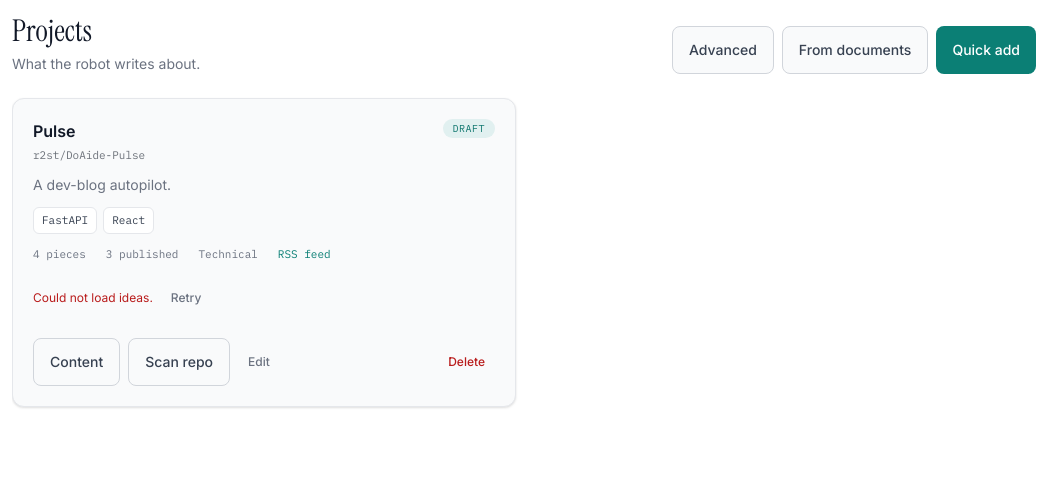
Test case: a project's ideas › says the ideas could not load, not 'No ideas yet', and retries
Expected: the text "Could not load ideas." is shown, [33,290,153,306]
Click the button "Retry": click(186, 298) [161,274,211,322]
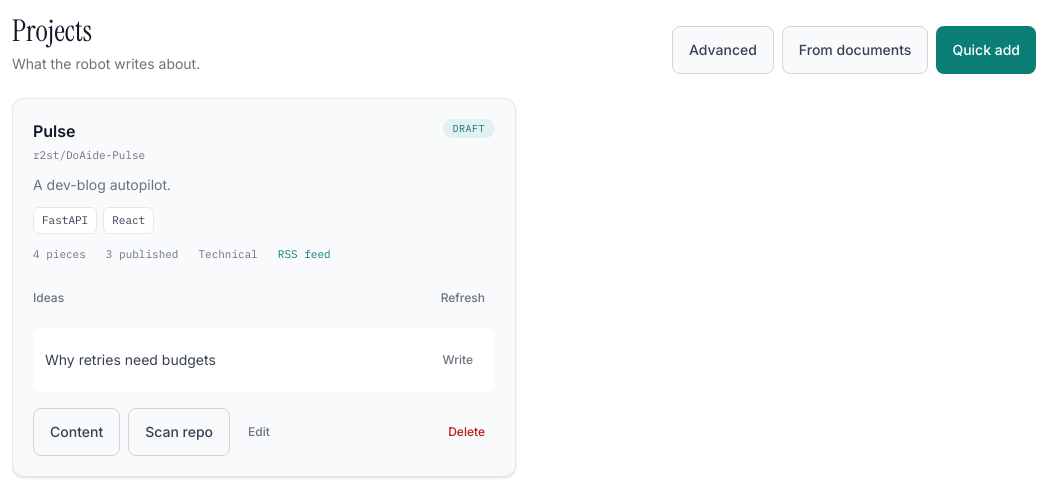
Expected: the text "Why retries need budgets" is shown, [45,351,216,368]
